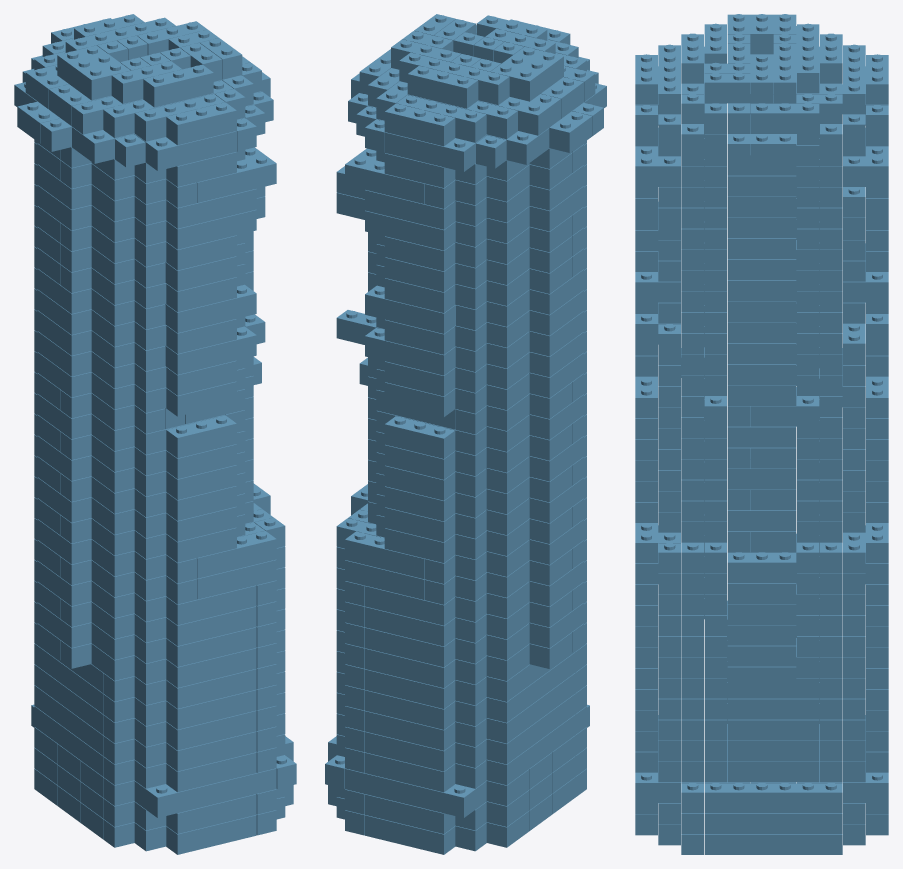
The model's file is 006_basket_L1.glb.
The picture shows the model from 3 angles, left to right: view 1: azimuth 30°, elevation 25°; view 2: azimuth 150°, elevation 25°; view 3: azimuth 270°, elevation 25°; orthographic projection.
Bounding box in the file's own units: 10.98 × 36.13 × 10.98.
